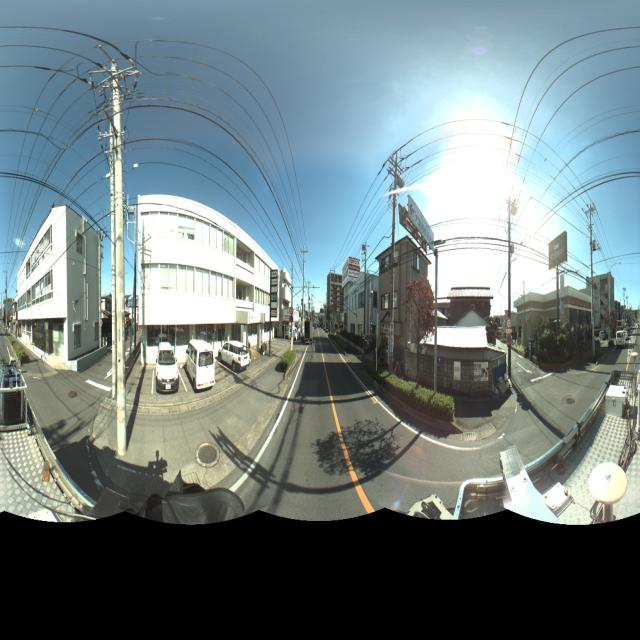b_1: (132, 193, 279, 359), (11, 200, 107, 370), (414, 273, 510, 392), (379, 233, 421, 379), (515, 286, 594, 356), (343, 270, 382, 342), (587, 261, 614, 341), (272, 262, 293, 351), (325, 264, 344, 326)
